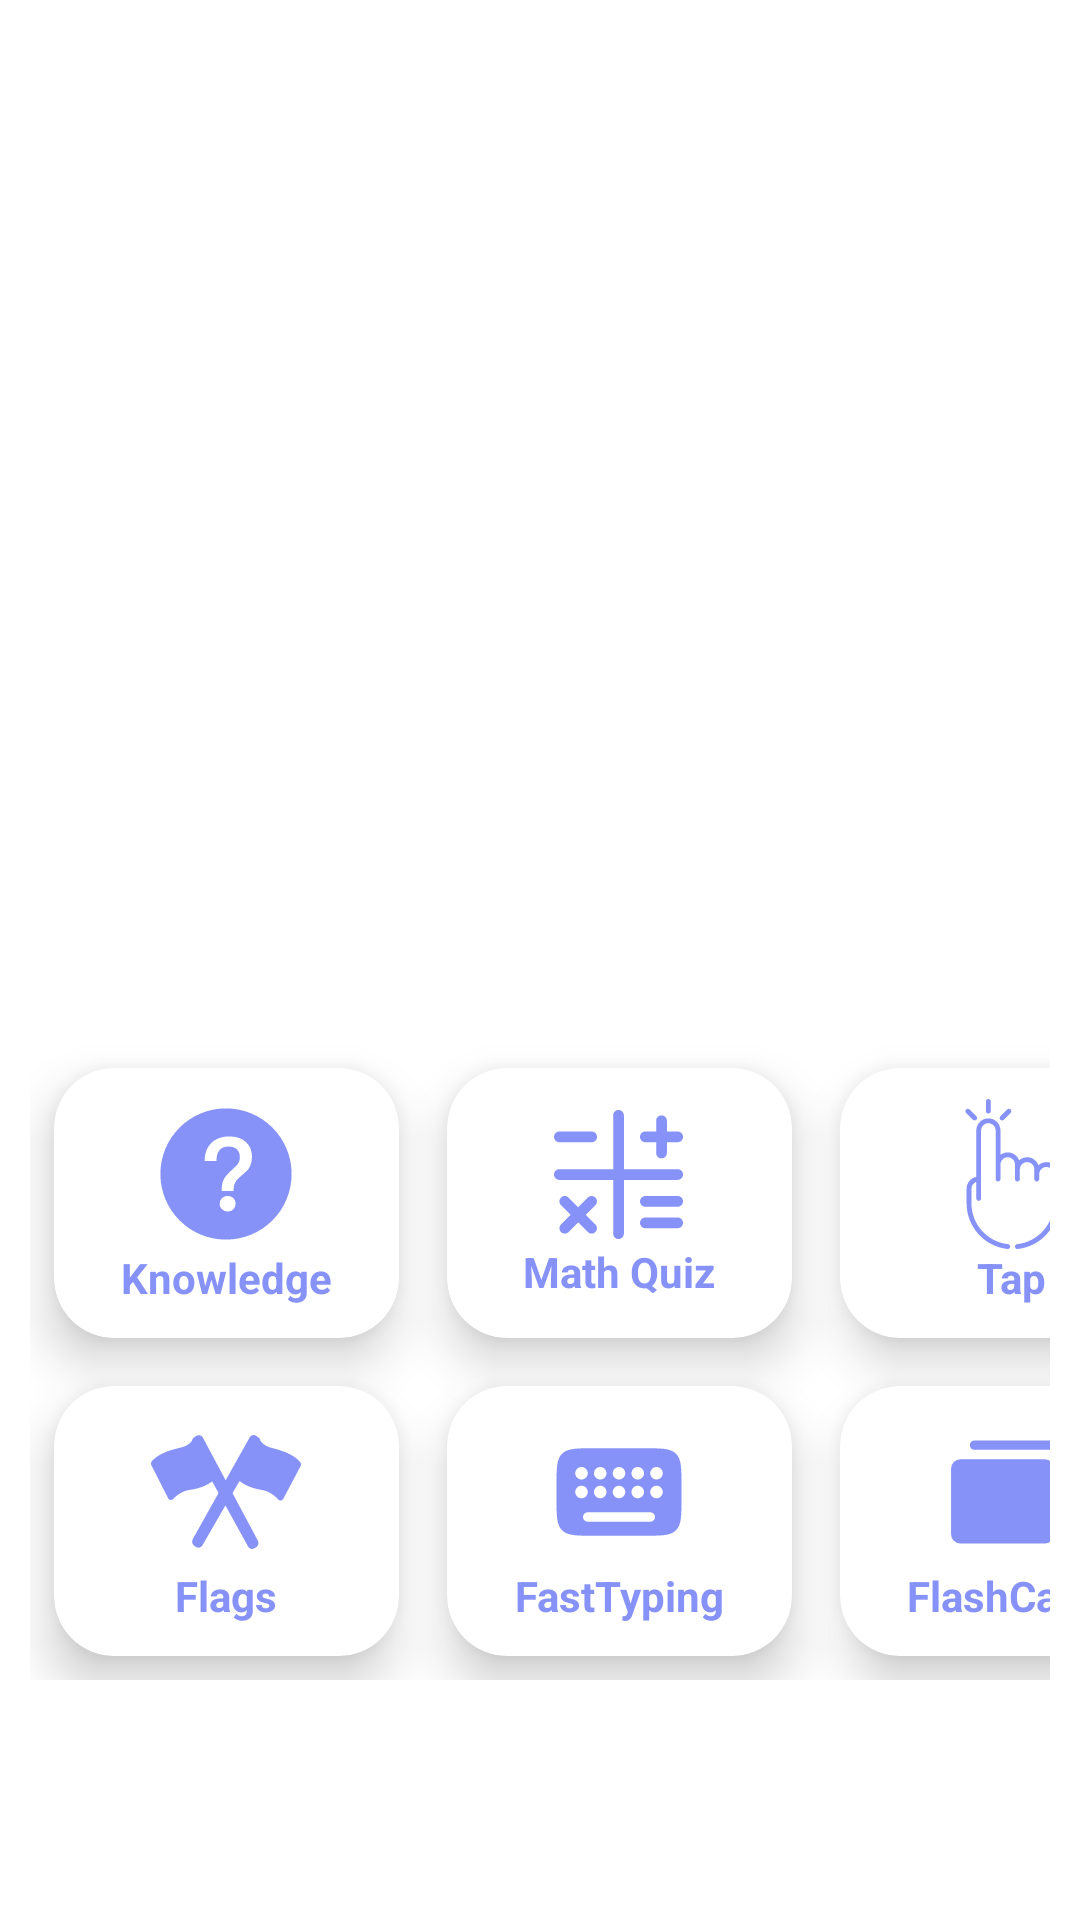

Named icons in this screenshot (1080w x 1920h) and their centers, (x,y):
keyboard: (619,1492)
question: (226,1174)
